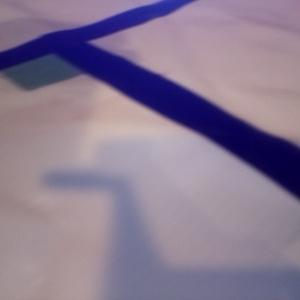bottom_left: (1, 52, 109, 90)
